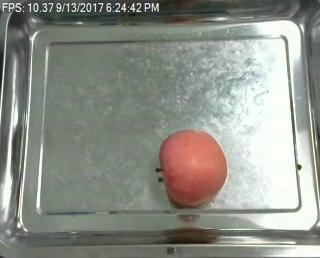apple: (156, 130, 227, 205)
